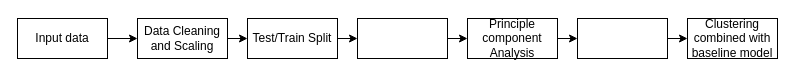
This 795x77 diagram has some shape labels left out. Here are the shapes that lost their labels. From the top down, the centre of each, then its label:
At (x=402, y=38): "Choose a baseline model".
At (x=622, y=38): "PCA combined with baseline model".
